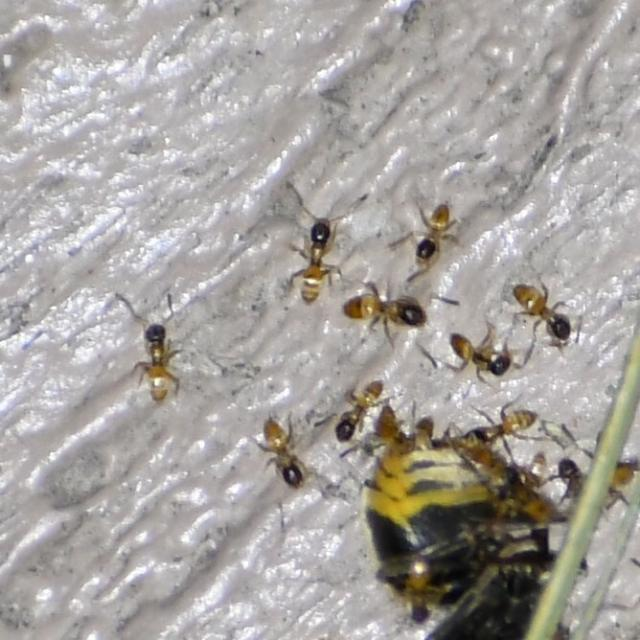Tapinoma: (114, 291, 194, 413), (280, 196, 352, 314), (336, 276, 436, 342), (508, 275, 588, 353), (248, 408, 316, 497), (440, 324, 524, 388), (389, 542, 448, 632), (325, 372, 393, 450), (400, 190, 466, 270), (462, 399, 544, 455), (546, 452, 592, 516)
